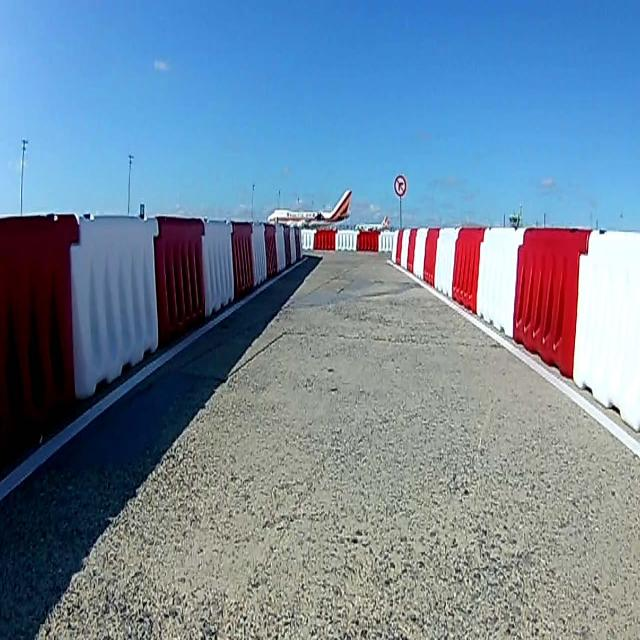sagadonulmez: (394, 175, 406, 198)
